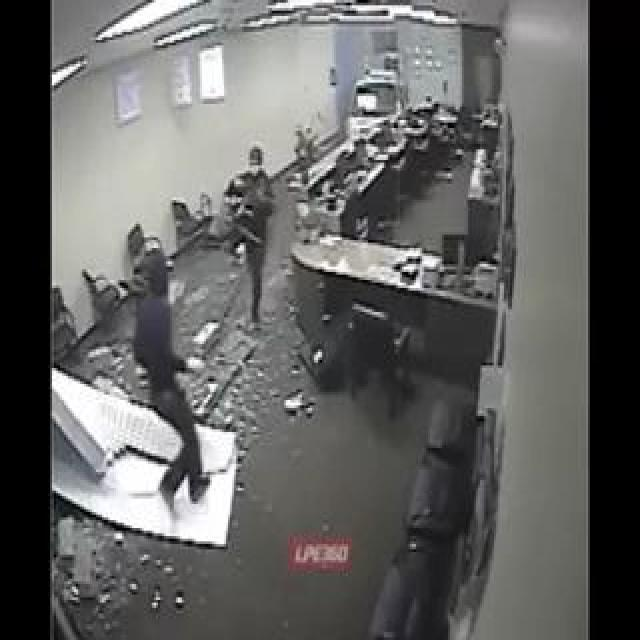thief: (131, 245, 209, 366), (212, 132, 292, 248)
